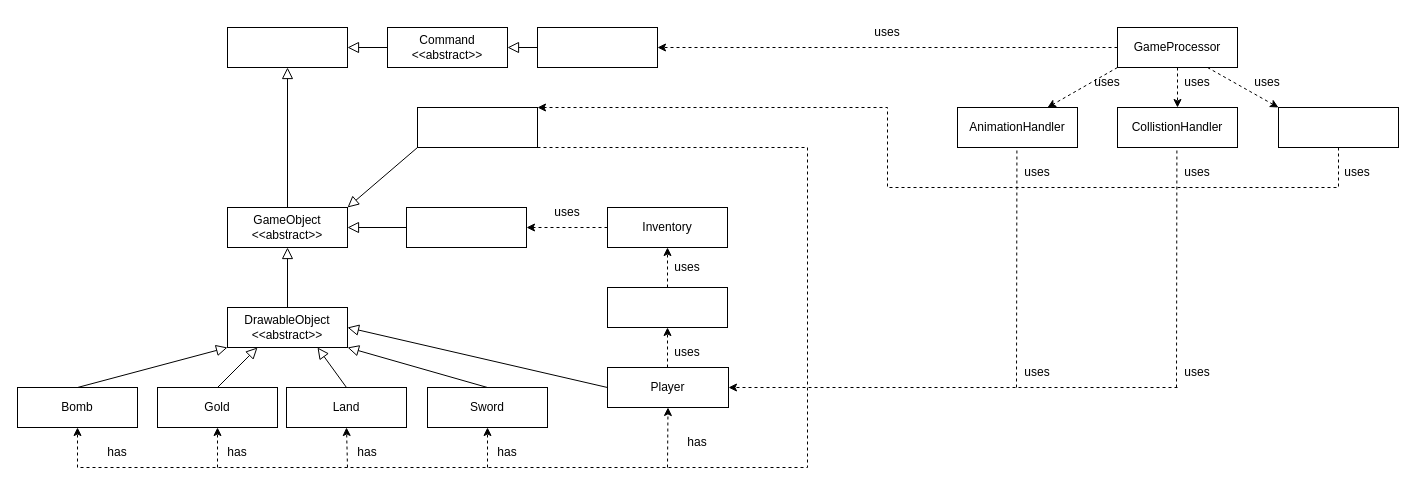
The diagram is 1416 pixels wide and 493 high, and some of its shapes have lost their labels. The shapes that lost their labels are listed below. From the top down, each one's centre as x and y in pixels, then its label:
(x=287, y=47): IdentifiableObject
(x=597, y=47): LookCommand
(x=477, y=127): GameMap
(x=1338, y=127): CameraHandler
(x=466, y=227): Item
(x=667, y=307): IHaveInventory <<Interface>>
